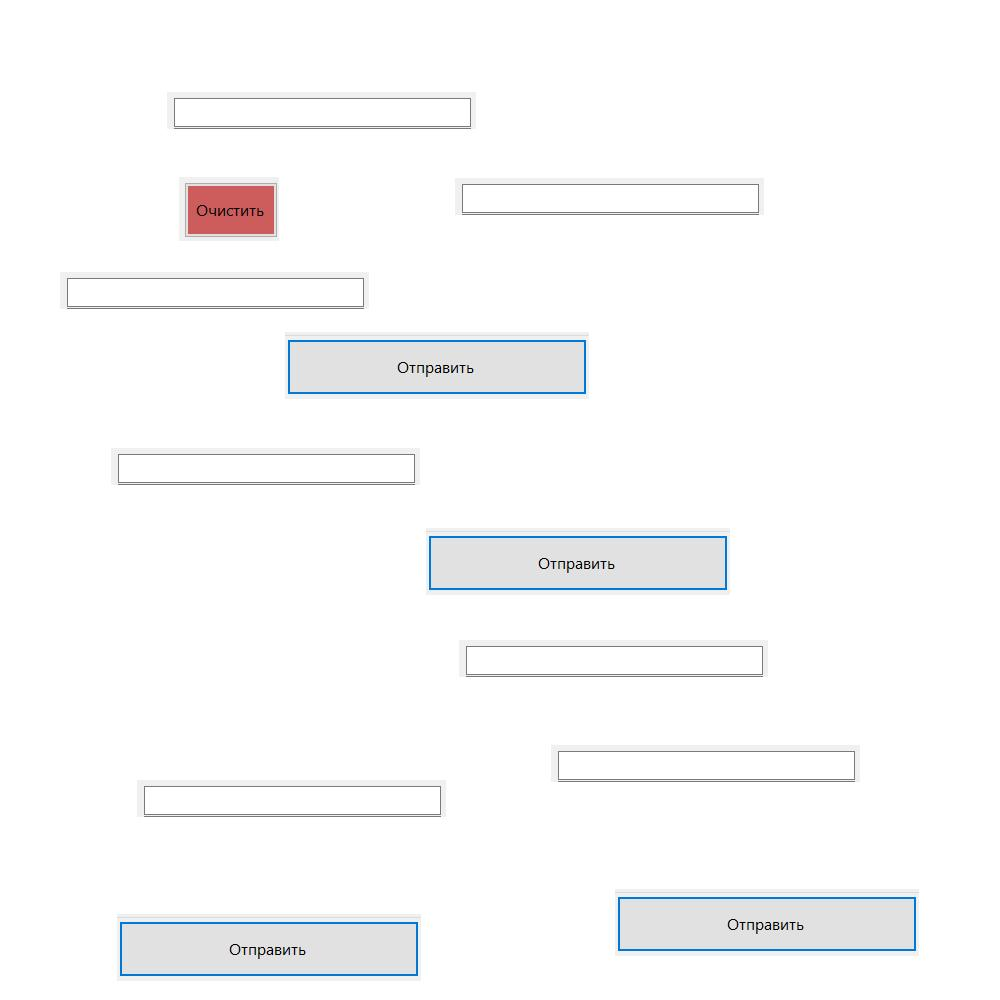Button: (117, 914, 421, 981), (285, 332, 589, 399), (426, 528, 730, 595), (615, 889, 919, 956), (179, 177, 279, 241)
EditText-: (111, 448, 420, 485), (455, 178, 764, 215), (167, 92, 476, 129), (459, 640, 768, 677), (137, 780, 446, 817), (551, 745, 860, 782), (60, 272, 369, 309)
